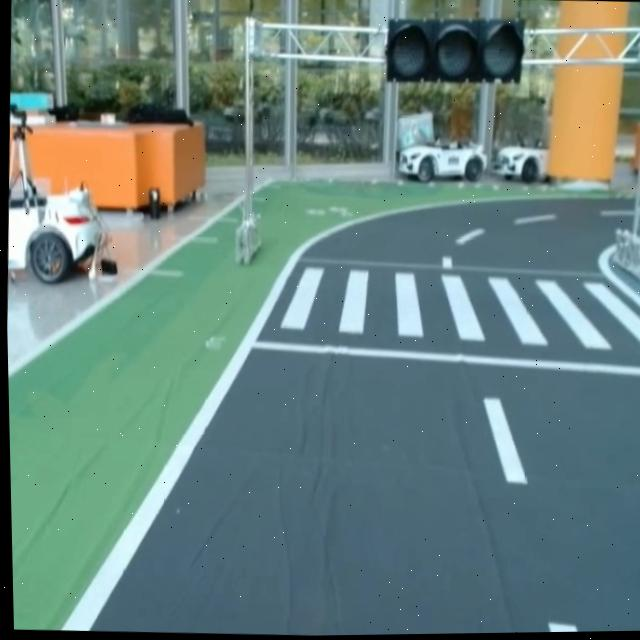traffic-light: (377, 9, 530, 88)
